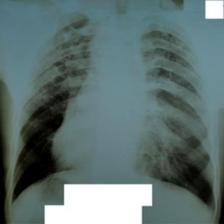tuberculosis: (9, 11, 219, 217)
